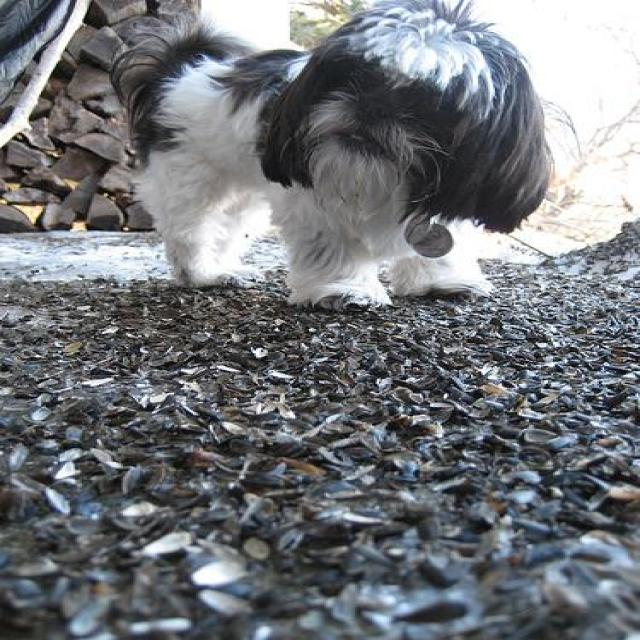shih_tzu: (104, 0, 558, 310)
